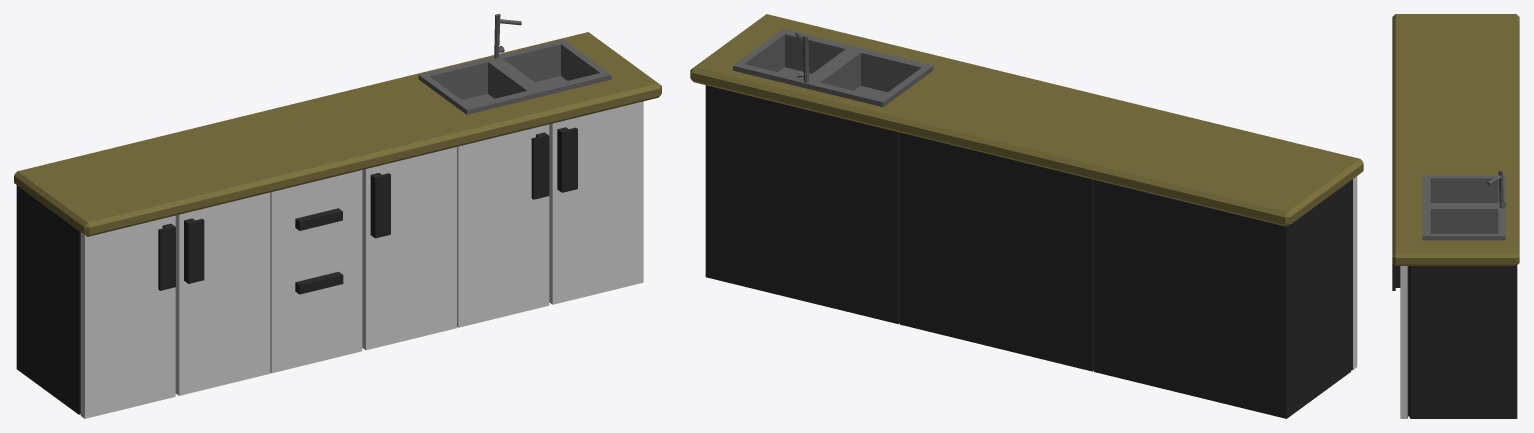
File: Cabinet.fbx
The picture shows the model from 3 angles, left to right: view 1: azimuth 30°, elevation 25°; view 2: azimuth 150°, elevation 25°; view 3: azimuth 270°, elevation 25°; orthographic projection. The views are drawn at different scales.
Visible parts, largest first — view 1: pCube6; view 2: pCube6; view 3: pCube6.
Part boxes in pixels (x1,y1,x2,y2): pCube6: (14, 14, 661, 418); pCube6: (690, 14, 1363, 418); pCube6: (1392, 14, 1519, 418).
Bounding box in the file's own units: 11.39 × 4.64 × 2.53.
